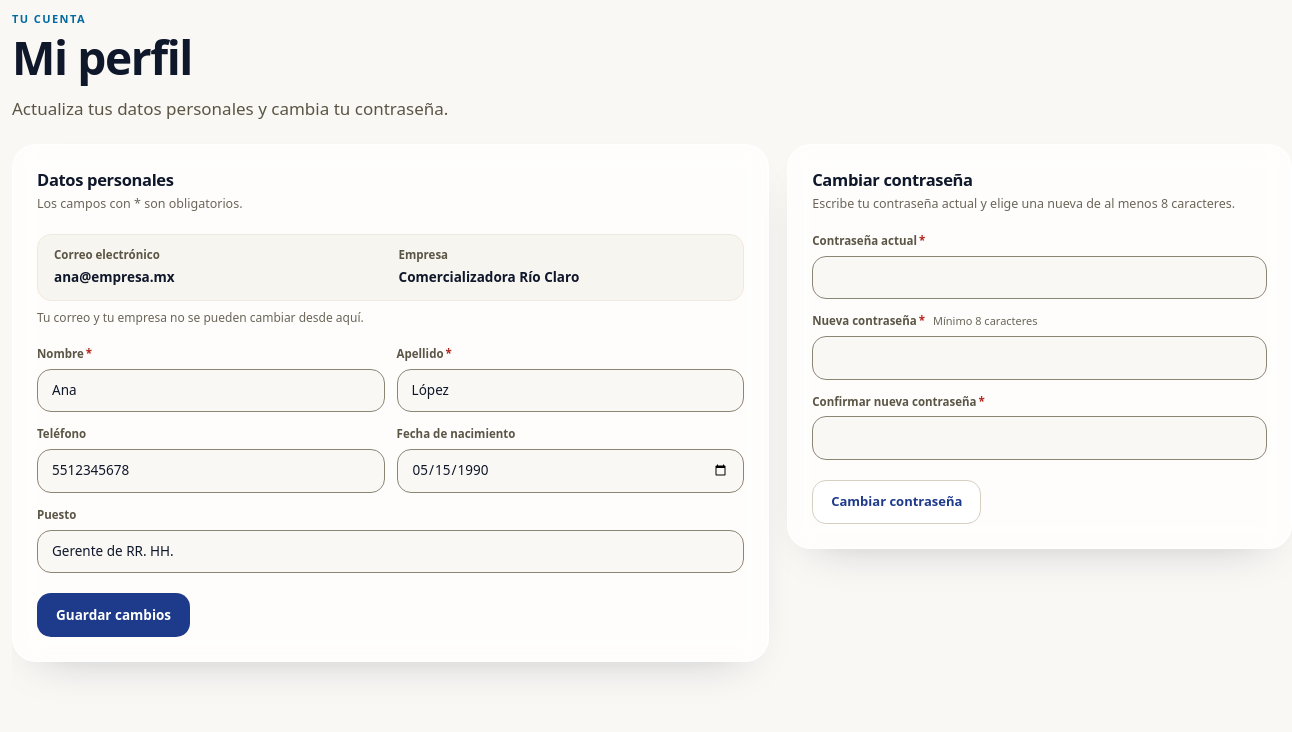
PerfilPage › datos personales › muestra los errores 422 del servidor en su campo y los quita al editarlo
Click the button "Guardar cambios".
click(114, 615)  # box [37,593,190,637]
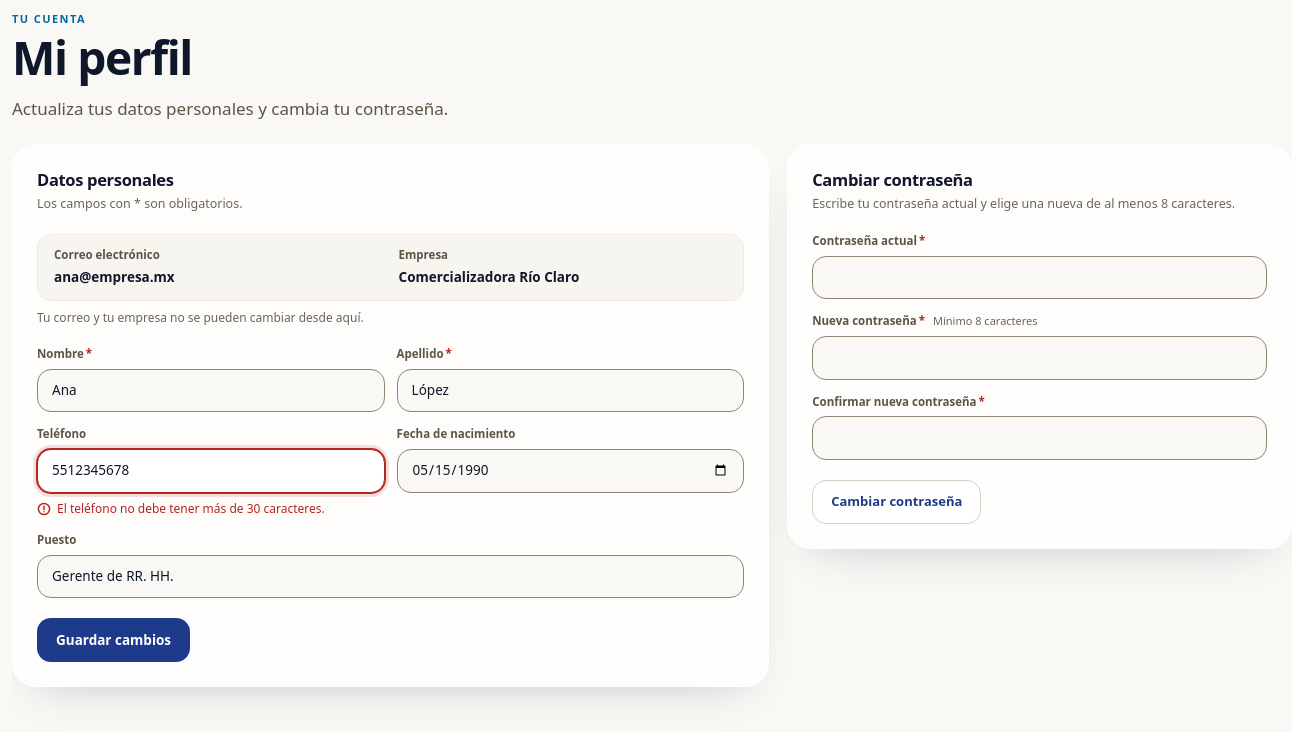
Result: the text "El teléfono no debe tener más de 30 caracteres." is shown at [57,500,325,518]
Type "1" into the field labelled "Teléfono".
click(211, 471); type("1")  # box [38,450,384,492]
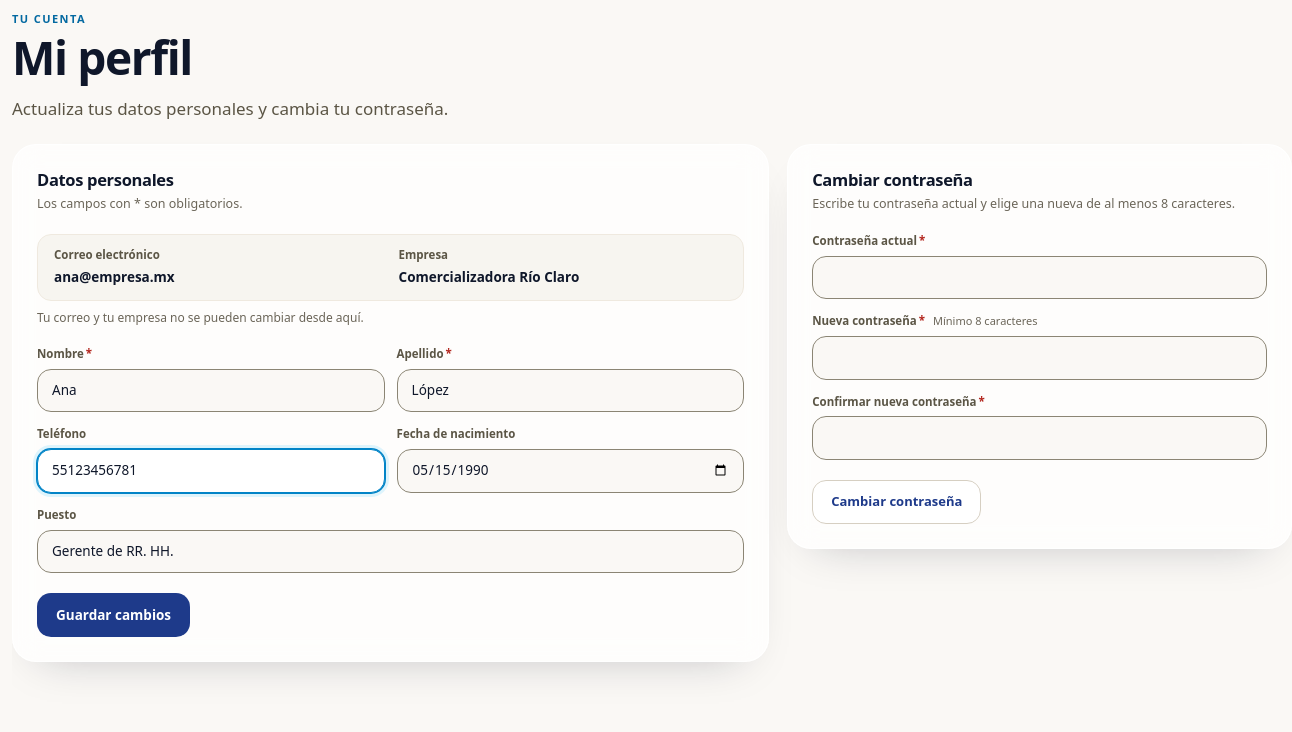
Result: the text "El teléfono no debe tener más de 30 caracteres." is gone
